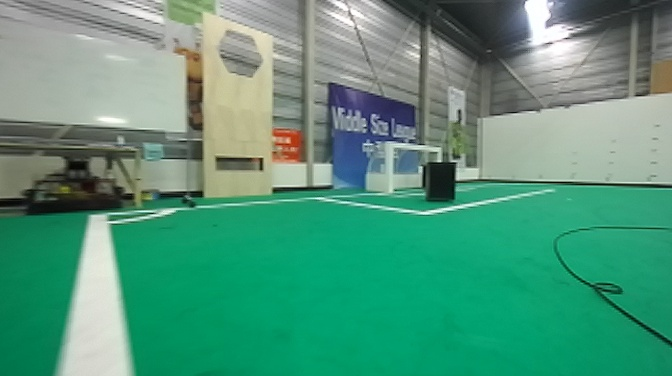goalpost: (382, 140, 395, 194), (433, 144, 441, 164)
